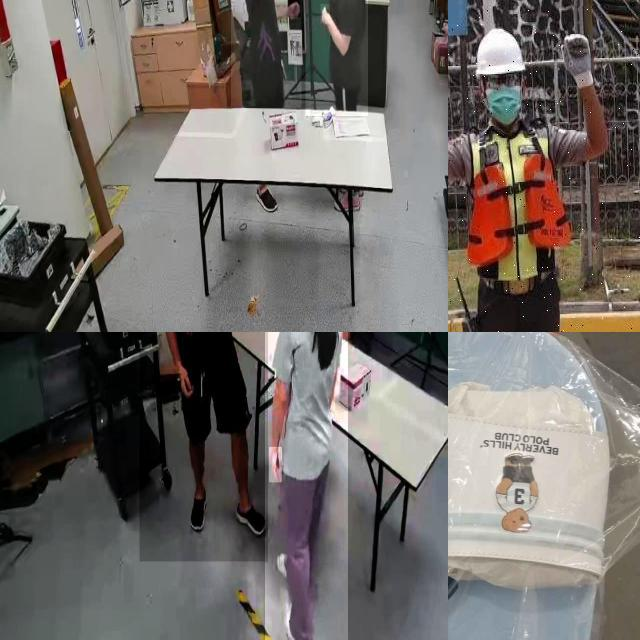Sandals: (448, 332, 640, 640)
hand_noglove: (176, 362, 195, 399), (269, 447, 283, 483), (287, 0, 300, 18), (320, 4, 330, 24)
head_helmet: (472, 26, 528, 83)
person: (448, 5, 640, 332), (139, 332, 268, 562), (265, 332, 348, 640), (231, 0, 302, 109), (305, 0, 368, 117)
shoes: (234, 498, 268, 540), (189, 480, 208, 533), (254, 183, 278, 219)
vest: (468, 125, 572, 281)
